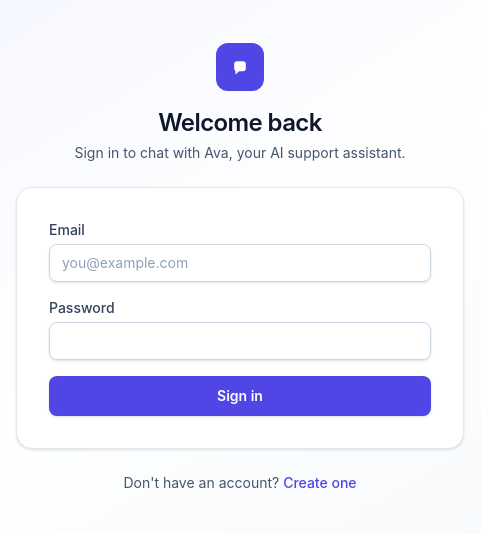
Login page › shows the server message for invalid credentials
The width and height of the screenshot is (481, 533).
Type "ada@example.com" into the field labelled "Email" at point(240, 263), box top-left (49, 244), bottom-right (431, 282)
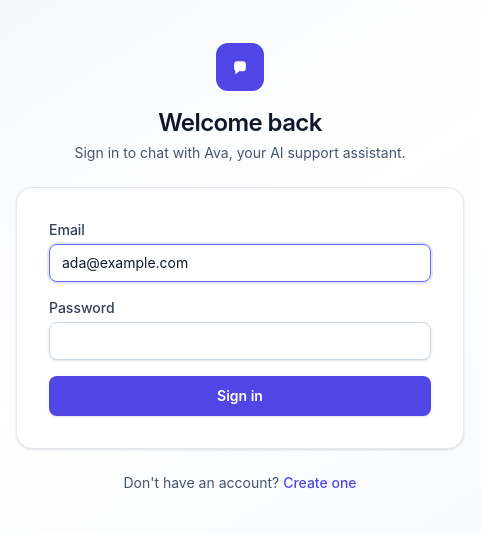
Type "wrong-pass1" into the password field labelled "Password" at point(240, 341), box top-left (49, 322), bottom-right (431, 360)
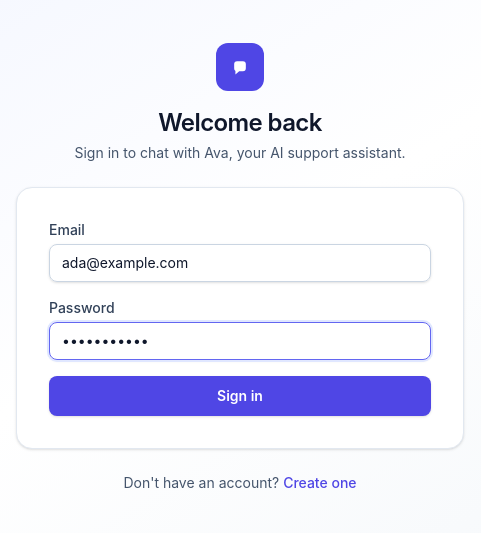
Click the button "Sign in" at point(240, 396), box top-left (49, 376), bottom-right (431, 416)
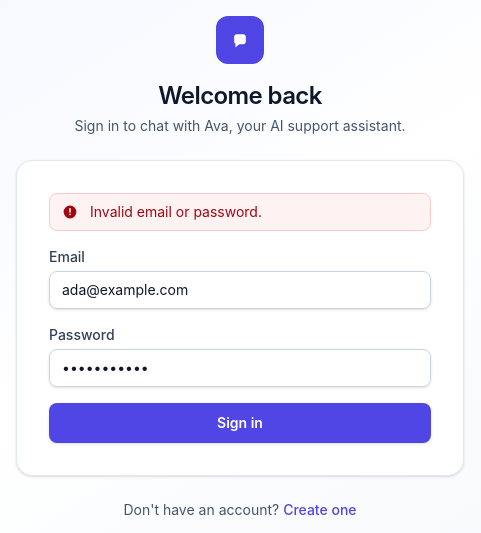
expect the button "Sign in" is enabled: met, box top-left (49, 403), bottom-right (431, 443)
expect the message reads "Invalid email or password.": met, box top-left (90, 203), bottom-right (262, 220)
